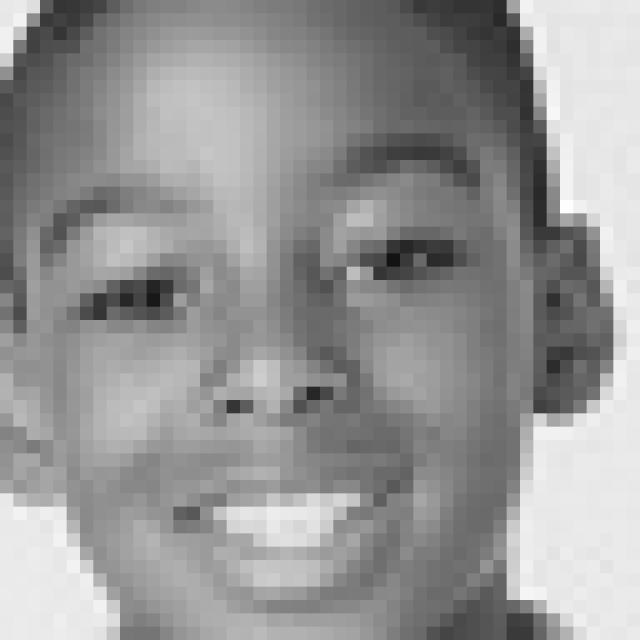happy: (42, 131, 492, 614)
